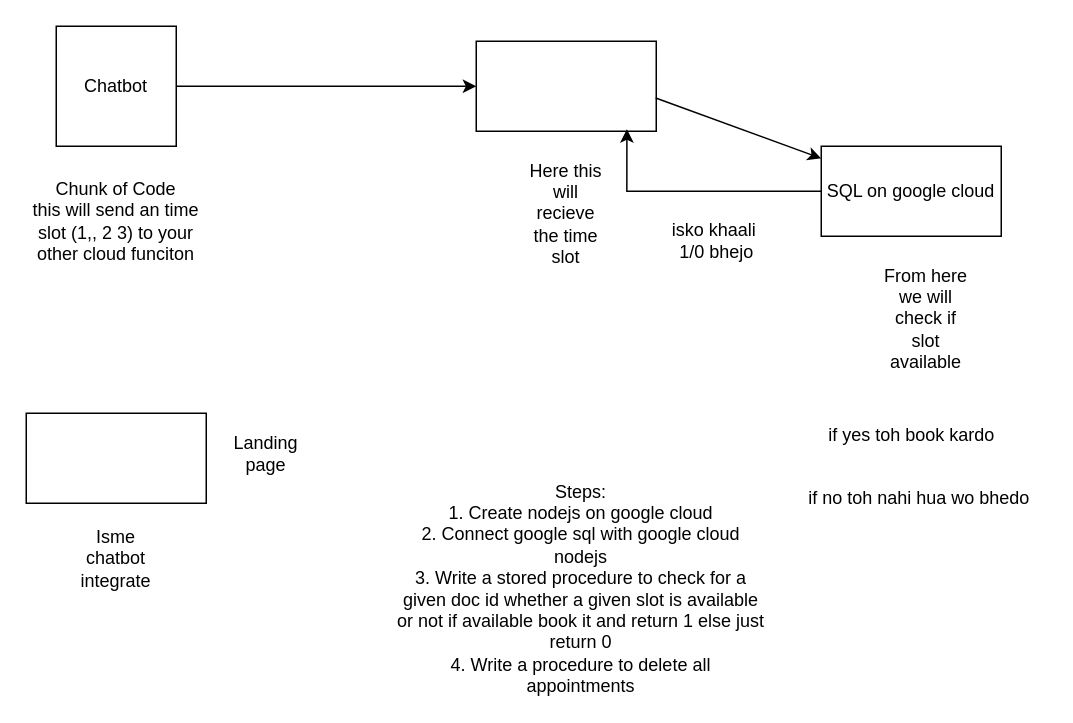
Some shapes in this 1073 by 723 pixel diagram are drawn without their labels. Here are the shapes that lost their labels. From the top down, the box of each, then its label:
(475, 40, 656, 131): Nodejs server
(25, 412, 206, 503): React
